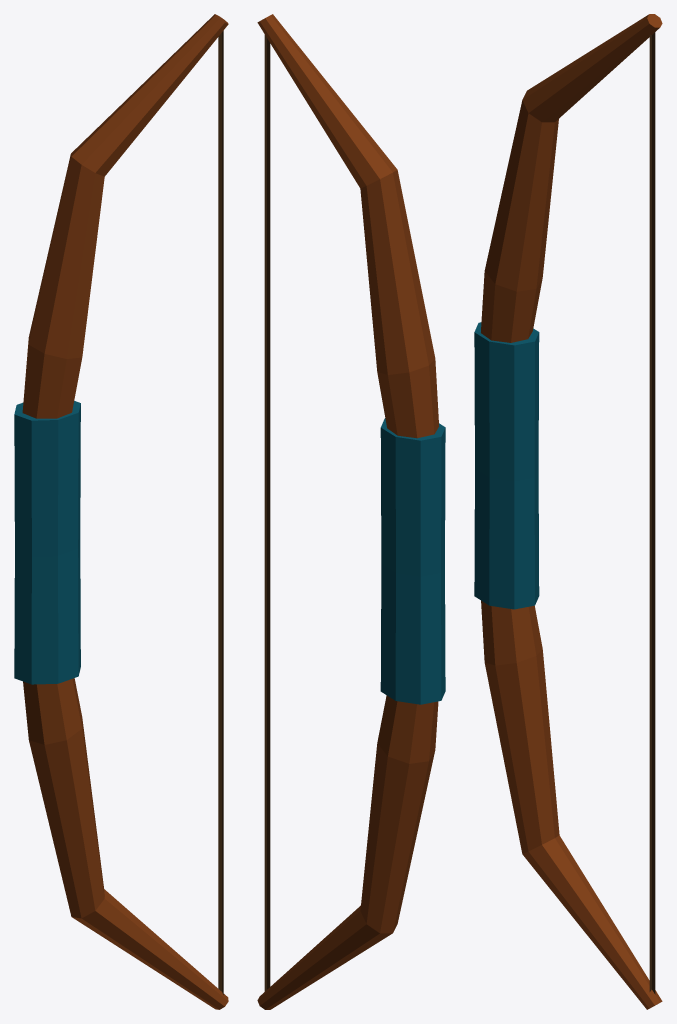
File: Bow.fbx
The picture shows the model from 3 angles, left to right: view 1: azimuth 30°, elevation 25°; view 2: azimuth 150°, elevation 25°; view 3: azimuth 330°, elevation 25°; orthographic projection.
Parts seen in each view (by area): view 1: Bow; view 2: Bow; view 3: Bow.
Part boxes in pixels (bbox=[...]): Bow: bbox=[14, 14, 228, 1009]; Bow: bbox=[257, 14, 445, 1009]; Bow: bbox=[474, 14, 662, 1009].
Bounding box in the file's own units: 19.54 × 93.85 × 5.43.
